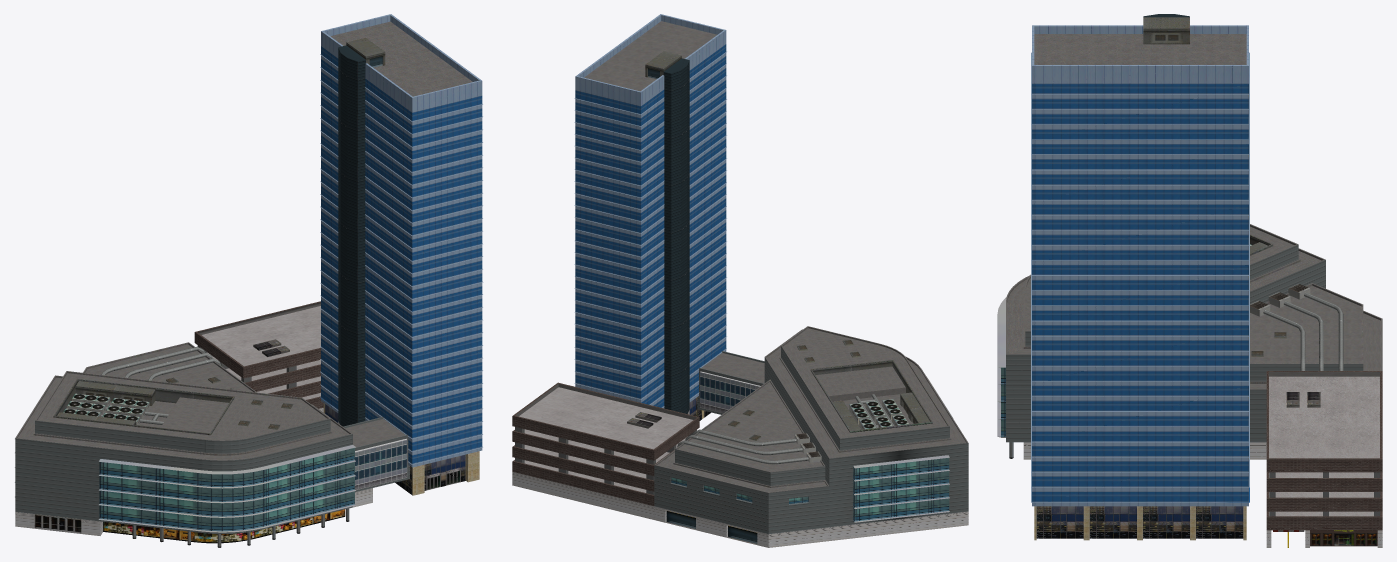
File: 45building.fbx
The picture shows the model from 3 angles, left to right: view 1: azimuth 30°, elevation 25°; view 2: azimuth 150°, elevation 25°; view 3: azimuth 270°, elevation 25°; orthographic projection. The views are drawn at different scales.
Visible parts, largest first — view 1: Object001; view 2: Object001; view 3: Object001.
Part boxes in pixels (bbox=[...]): Object001: bbox=[14, 14, 483, 547]; Object001: bbox=[512, 14, 968, 547]; Object001: bbox=[997, 14, 1382, 547].
Bounding box in the file's own units: 77.13 × 72.85 × 52.6.
Materials: 1 (1 with a texture image).
